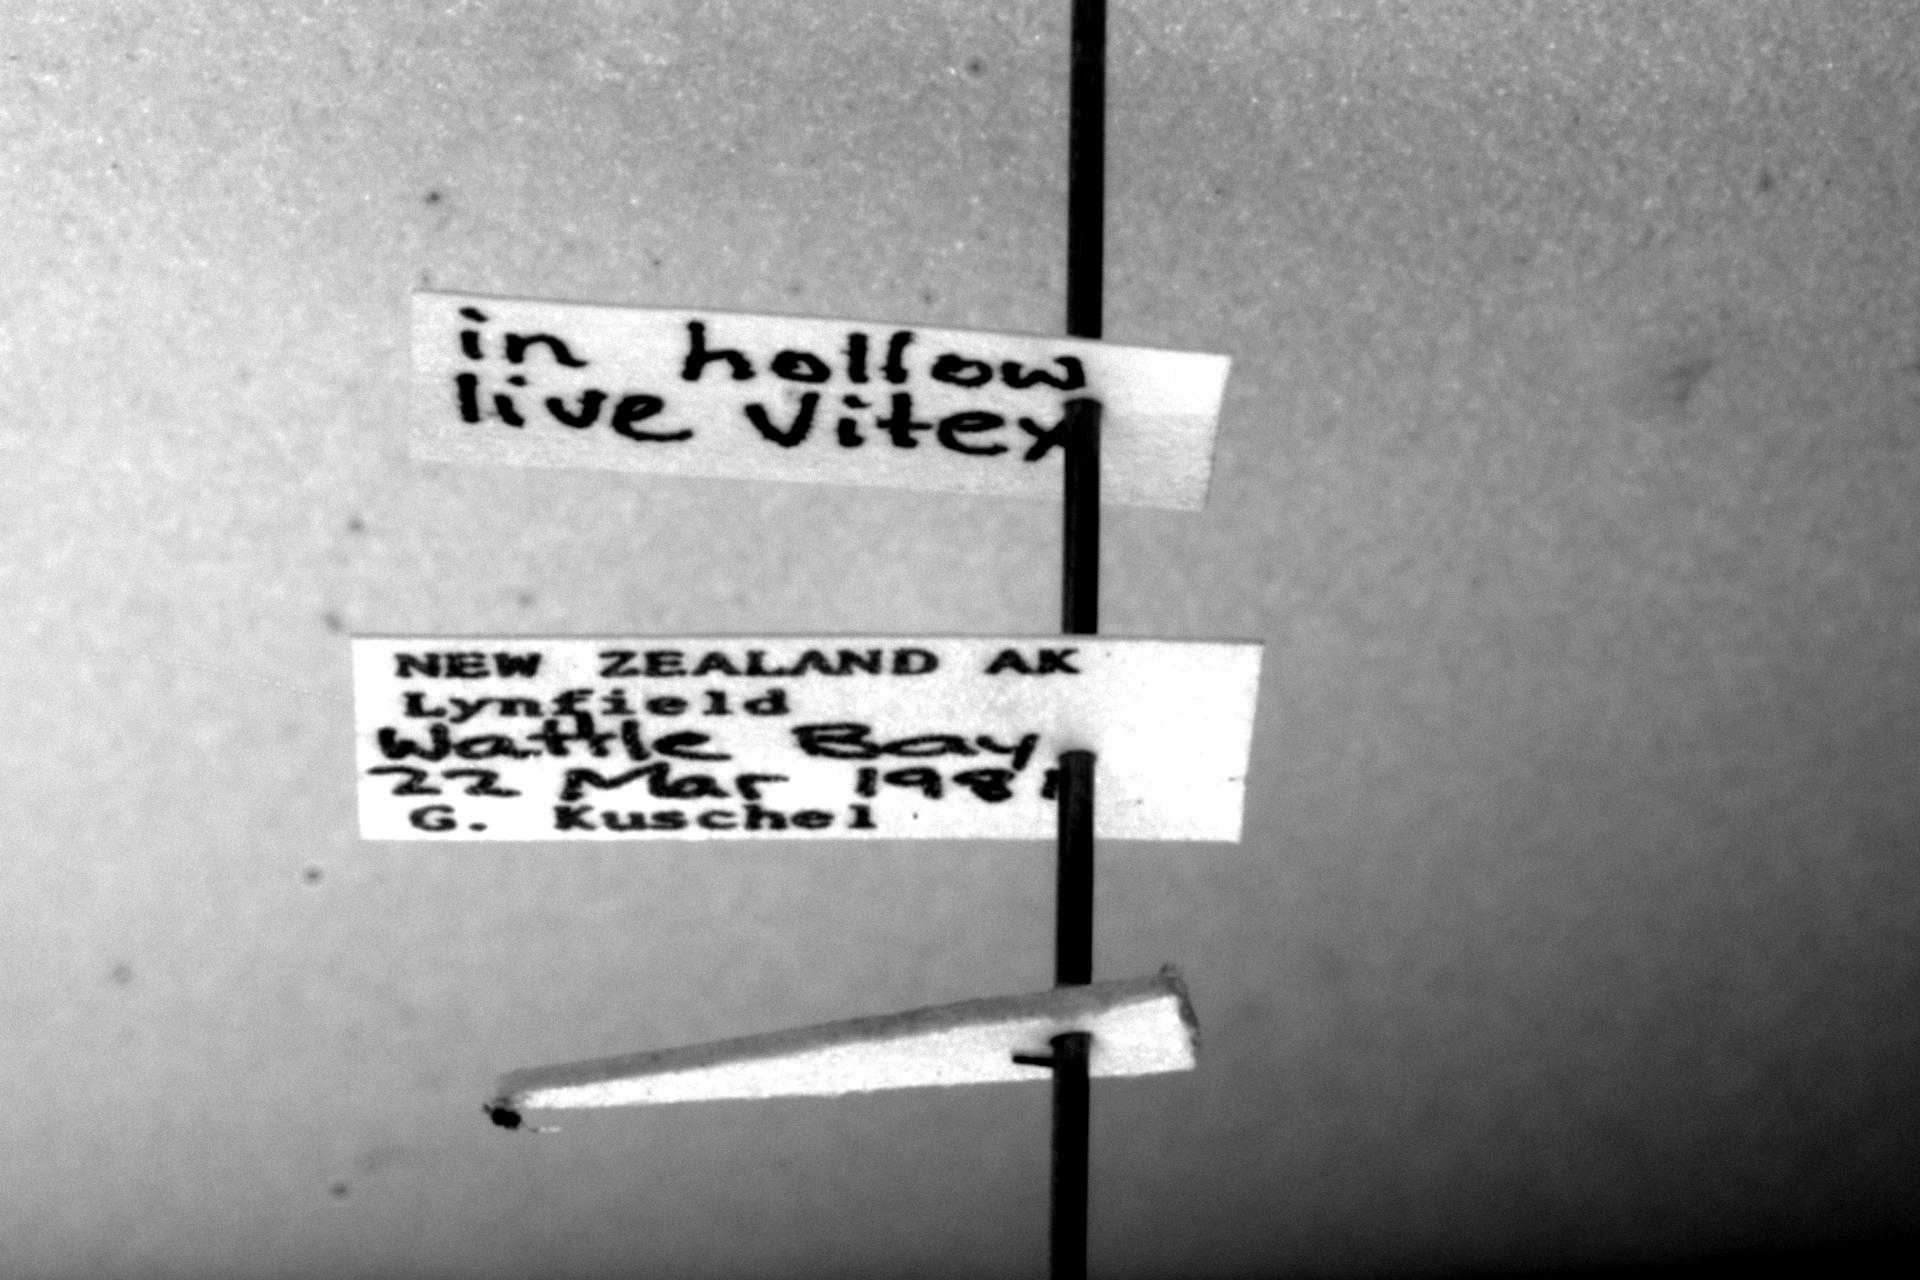hand_label: (413, 293, 1230, 510)
mixed_label: (353, 637, 1260, 844)
